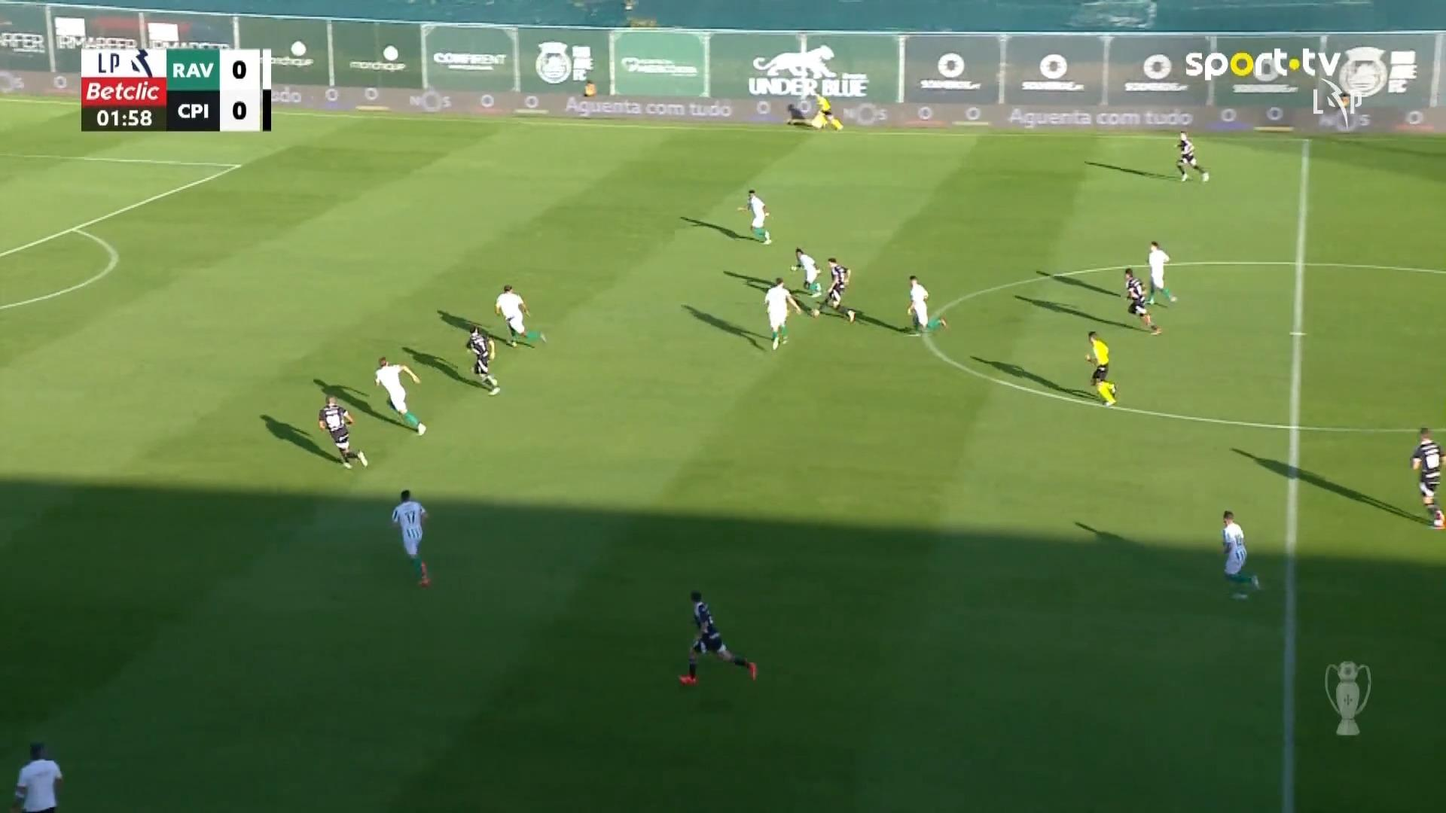ball: (809, 306, 821, 319)
player: (678, 589, 758, 685), (373, 355, 426, 436), (390, 489, 430, 586), (317, 394, 368, 469), (11, 740, 63, 811), (1220, 509, 1260, 600), (1410, 426, 1444, 528), (494, 283, 546, 348), (810, 257, 856, 323), (763, 276, 802, 351), (1122, 266, 1161, 335), (905, 274, 947, 335), (465, 324, 499, 395), (1145, 240, 1177, 306), (736, 188, 772, 245), (1173, 130, 1210, 182), (790, 246, 822, 297)
referee: (1084, 329, 1118, 406), (810, 91, 843, 130)
